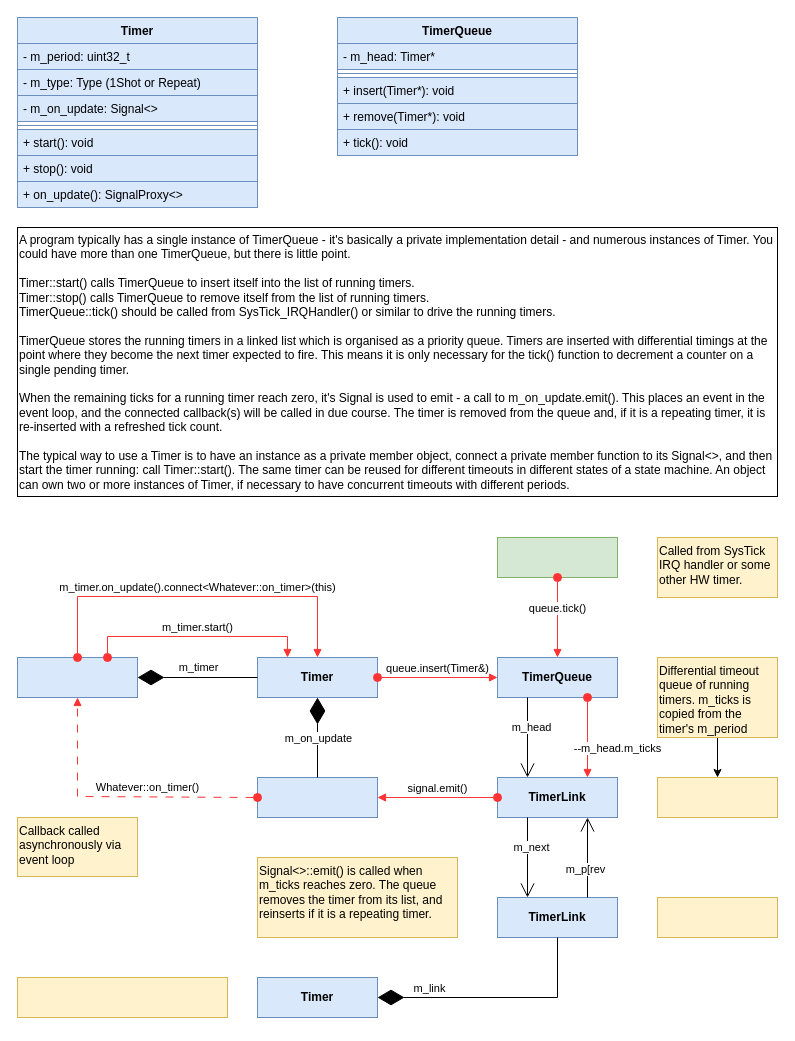
The diagram is 795 pixels wide and 1041 high, and some of its shapes have lost their labels. Here are the shapes that lost their labels. From the top down, the centre of each, then its label:
At (557,557): "SysTickIRQHandler".
At (77,677): "Whatever".
At (317,797): "Signal<>".
At (717,797): "m_ticks == 100; // Fires in 100 ticks".
At (717,917): "m_ticks == 150; // Fires in 250 ticks".
At (122,997): "Each Timer owns a private TimerLink used to build the linked list.".
